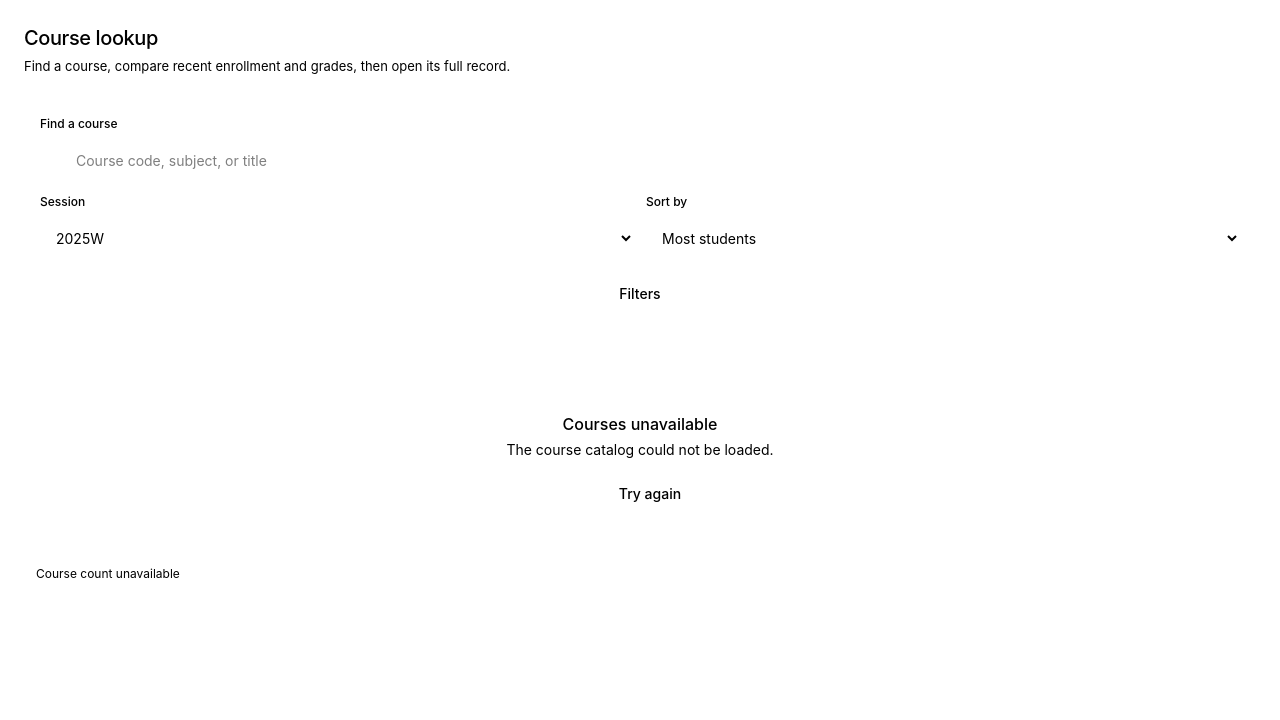
Test: course loading consistency › replaces initial loading with retry and an unavailable count after failure
Expected: the text "Courses unavailable" is shown, [563, 414, 717, 434]
Expected: the text "Course count unavailable" is shown, [36, 566, 180, 582]
Click the button "Try again".
click(640, 494)  # box [583, 472, 697, 516]
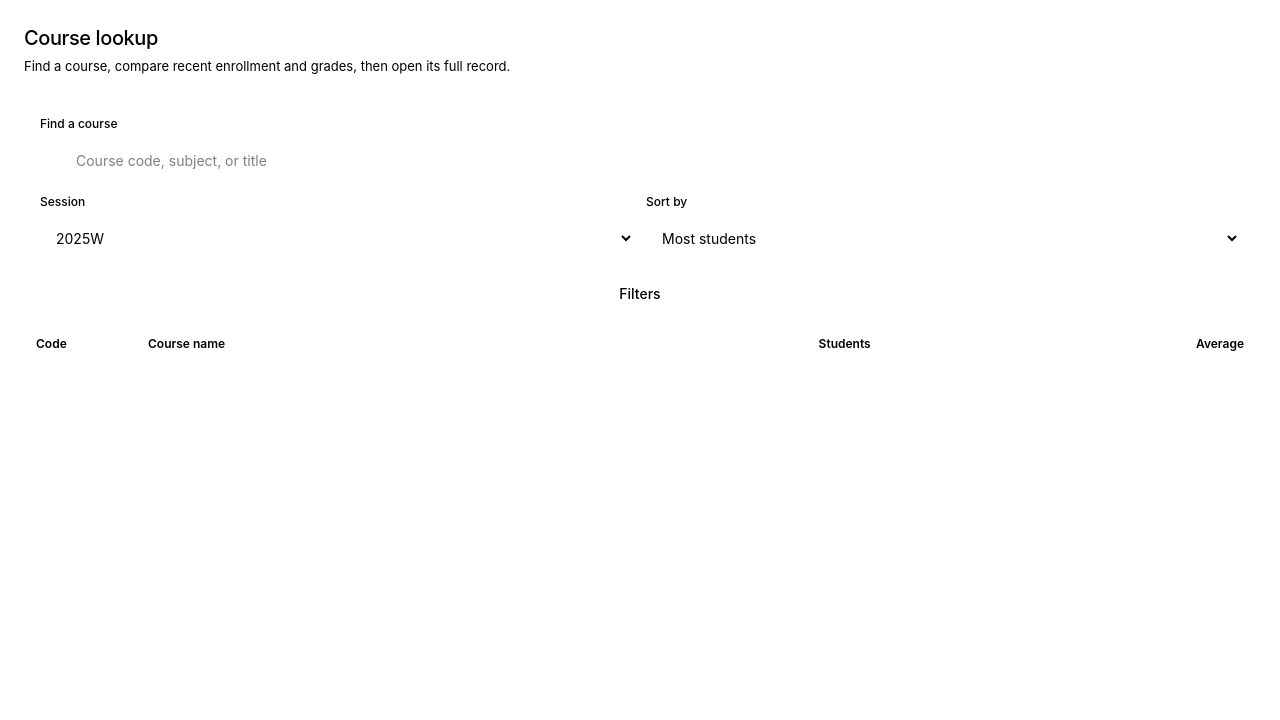
Expected: the message named "Loading courses" is shown, [24, 329, 149, 349]
